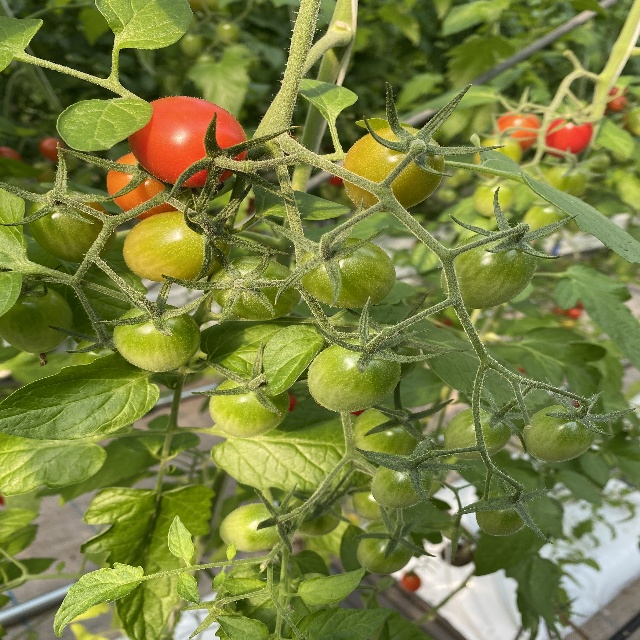l_fully_ripened: (128, 96, 246, 187)
l_green: (441, 230, 538, 309), (298, 236, 396, 310), (307, 337, 402, 413), (26, 189, 117, 263), (112, 303, 202, 372), (208, 256, 304, 320), (207, 376, 290, 440), (1, 286, 75, 354), (522, 405, 598, 462), (349, 323, 421, 383), (350, 404, 422, 463), (219, 502, 289, 554), (443, 407, 511, 460), (369, 454, 434, 509), (356, 524, 415, 575), (281, 492, 341, 537), (475, 488, 529, 537)
l_half_ripened: (344, 127, 446, 214), (123, 209, 230, 285), (107, 151, 181, 221)
